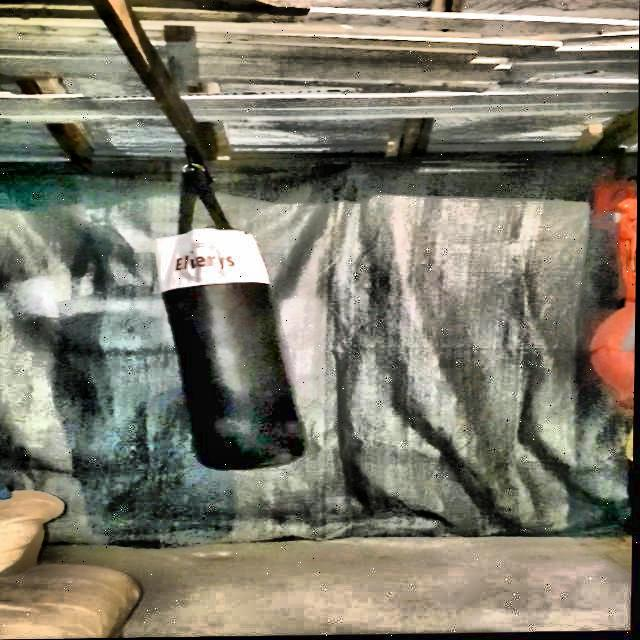boxing-bag: (156, 136, 320, 474)
